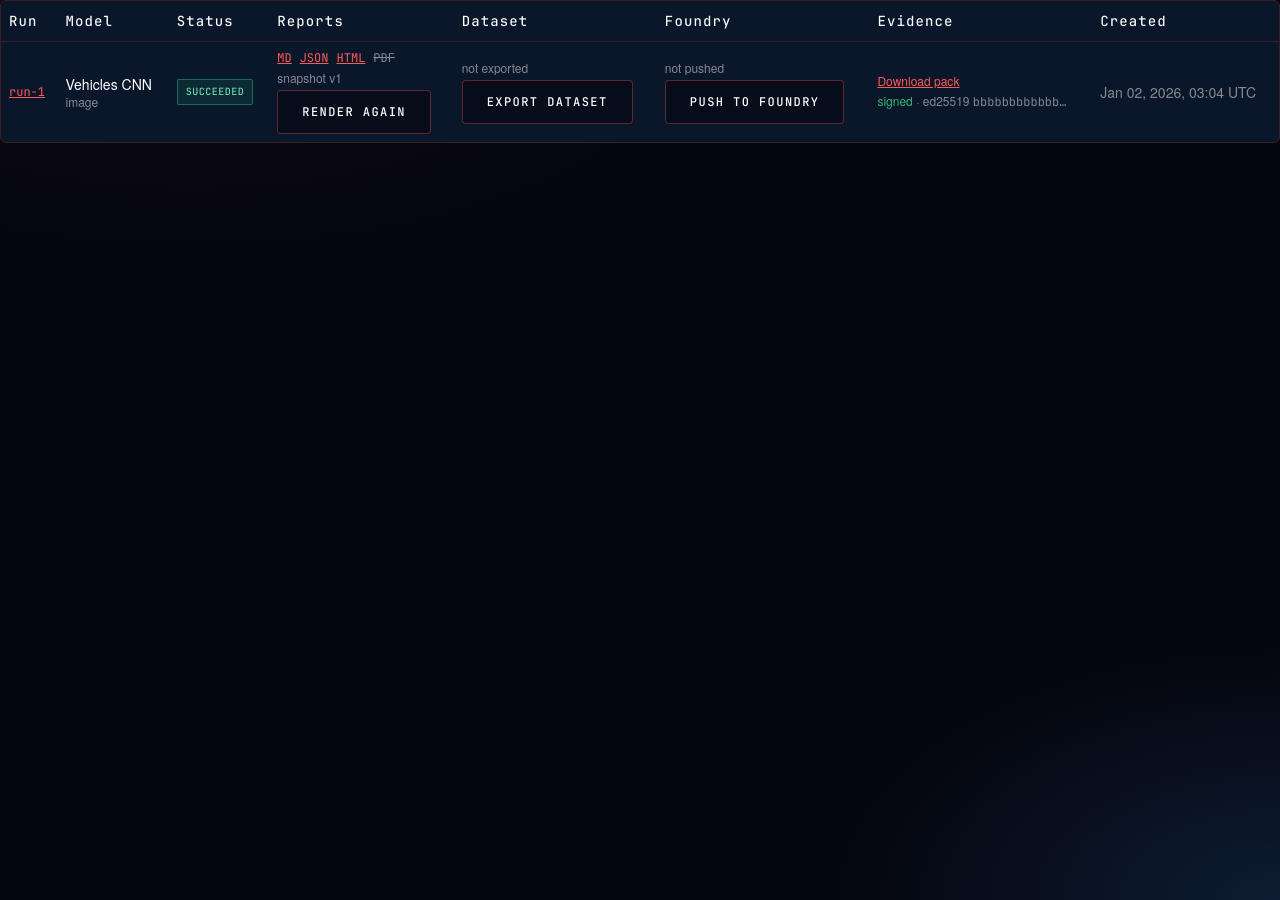
ExportsTable Foundry column › posts the push for an admin, marks it queued from the refetched row, and shows a refusal by code
What coordinates should you click on to do the following:
click the button "Push to Foundry"
I would click on:
 (755, 102)
Its box is [665,80,844,124].
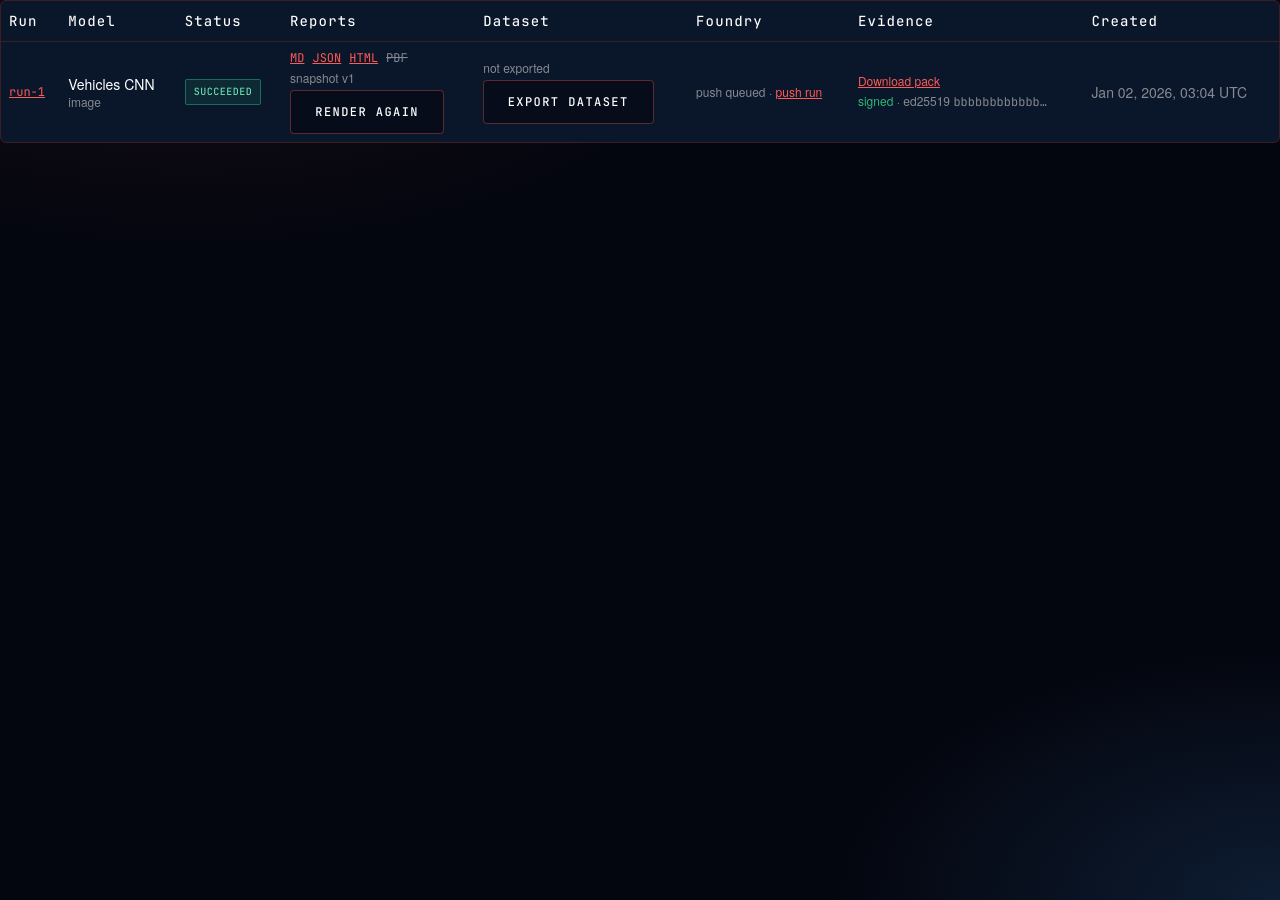
Now the text "push queued · push run" is shown, box [696,84,842,100]
Now the button "Push to Foundry" is gone
